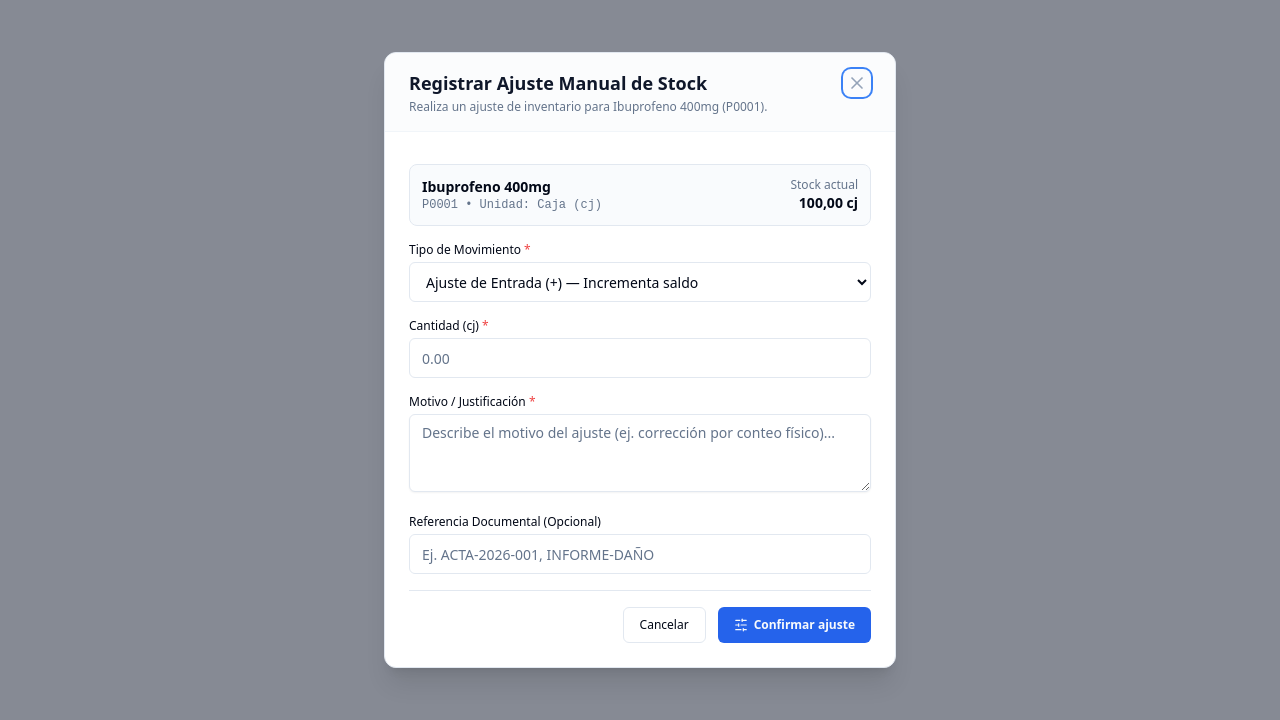
StockAdjustmentModal › shows calculation helper text when a quantity is entered
Type "15" into the number field named "cantidad a ajustar" at (640, 358), box [409,338,871,378]
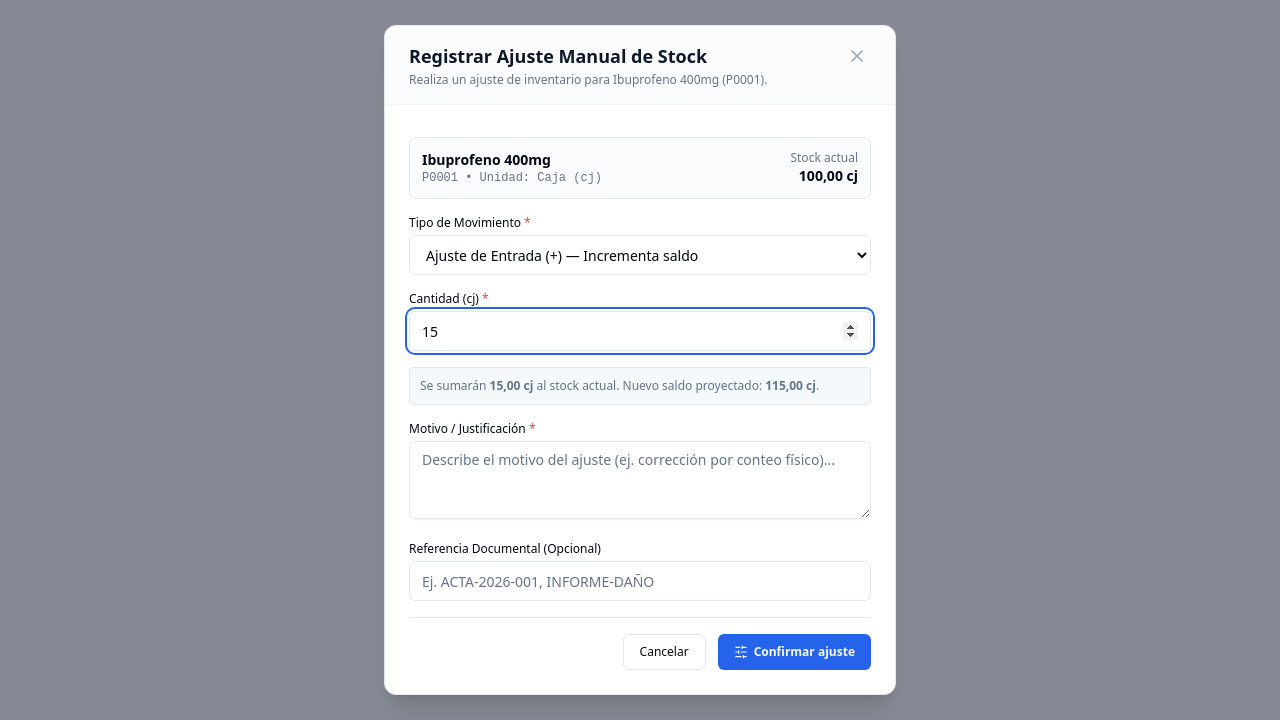
Check: the element with test id "stock-adjustment-calc-helper" reads "Se sumarán 15,00 cj al stock actual. Nuevo saldo proyectado: 115,00 cj.", box [409,367,871,405]
